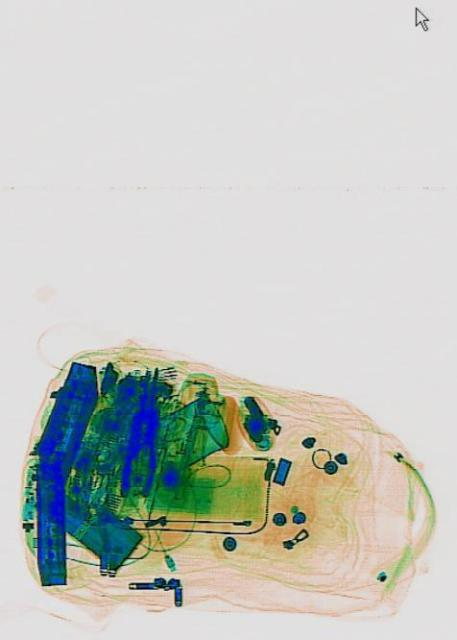Pliers: (118, 363, 165, 499)
